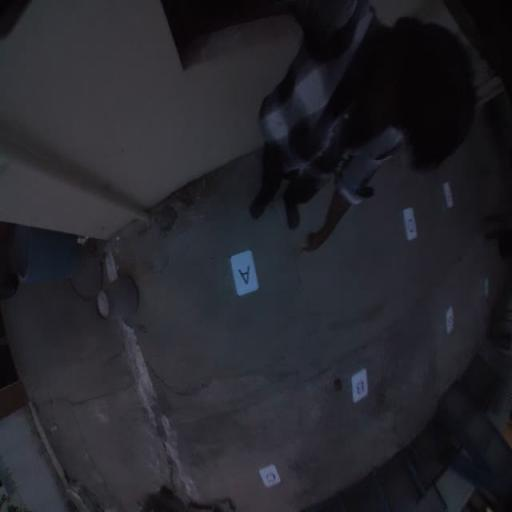A: (230, 250, 259, 296)
B: (351, 368, 368, 403)
C: (259, 464, 281, 487)
D: (403, 207, 418, 241)
E: (442, 181, 454, 208)
